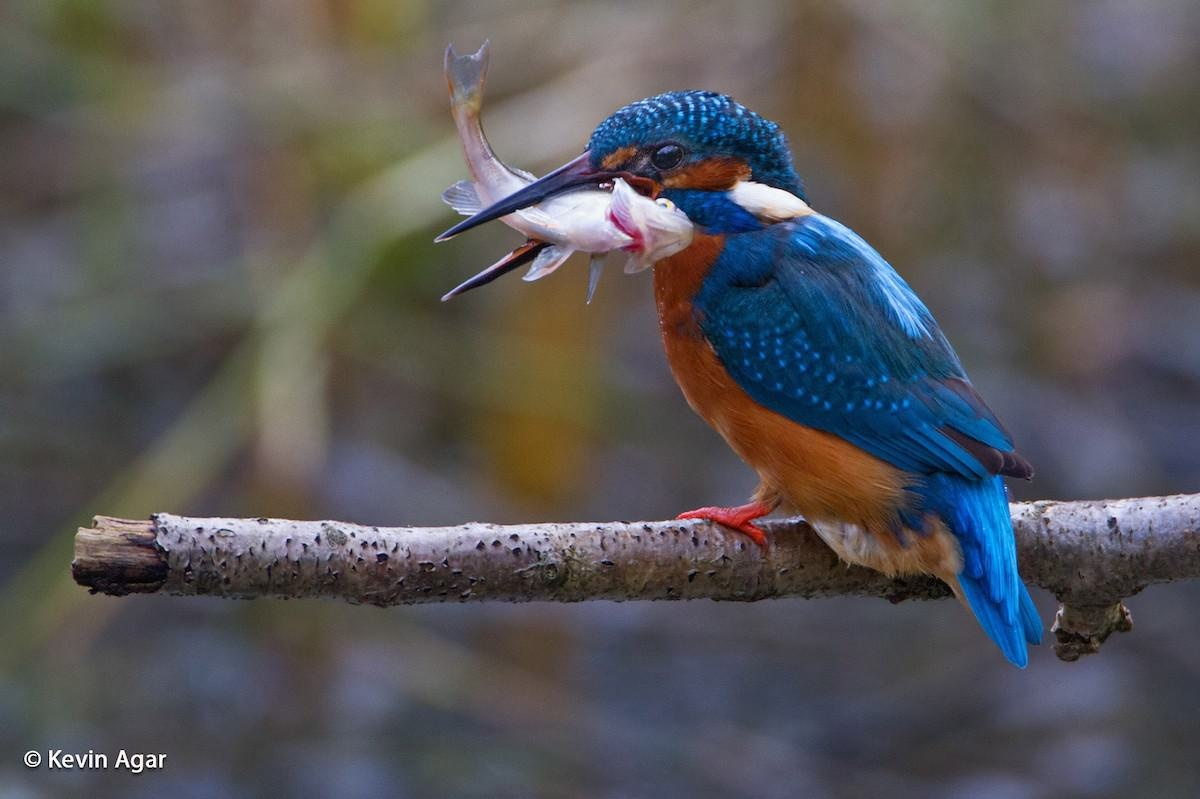kingfisher: (448, 73, 1040, 633)
